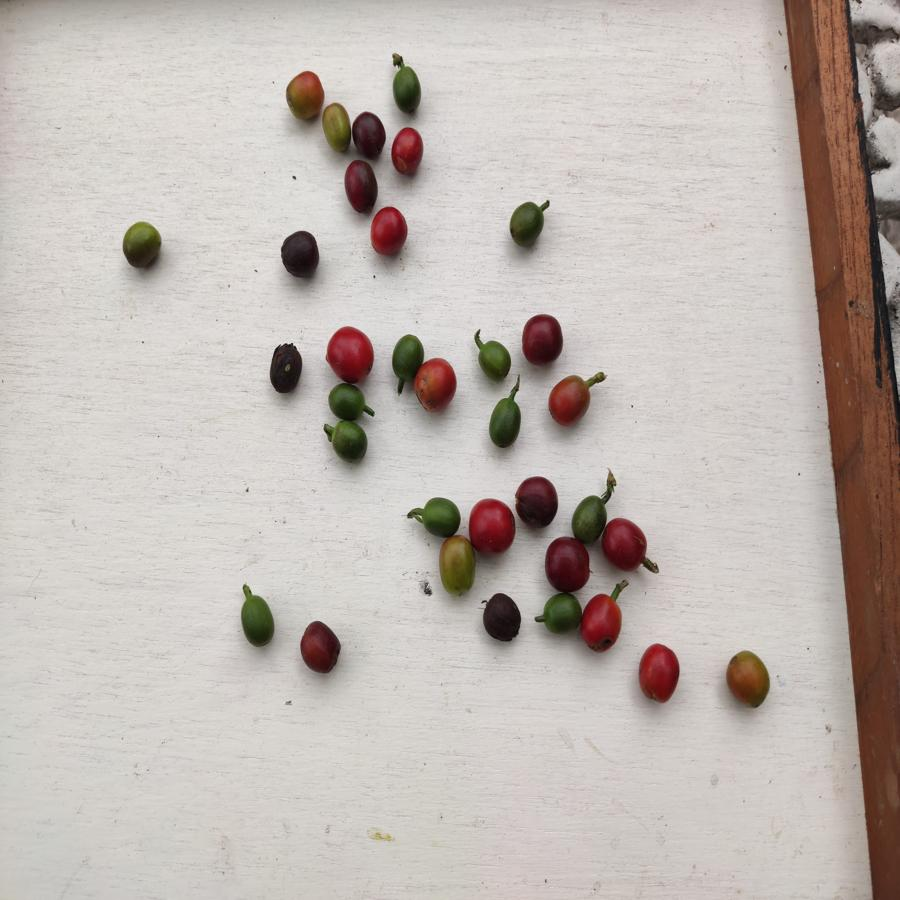Inmaduro: (238, 592, 278, 648), (325, 418, 372, 464), (122, 220, 165, 270), (486, 395, 524, 448), (328, 382, 375, 424), (508, 198, 545, 249), (475, 338, 515, 384), (390, 65, 424, 116), (572, 492, 606, 543), (542, 592, 582, 635), (420, 495, 461, 536), (389, 335, 422, 380)
Maduro: (327, 326, 377, 381), (637, 643, 681, 705), (468, 498, 515, 555), (604, 516, 649, 572), (581, 592, 622, 652), (548, 374, 593, 428), (415, 358, 458, 412), (372, 205, 408, 255), (391, 124, 425, 175)
Pinton: (725, 649, 774, 712), (436, 535, 475, 595), (282, 68, 325, 121), (321, 102, 351, 153)
Sobremaduro: (542, 536, 593, 592), (514, 475, 559, 528), (300, 619, 342, 675), (277, 230, 322, 278), (482, 590, 522, 644), (341, 156, 378, 213), (268, 341, 303, 395), (352, 112, 388, 158)
